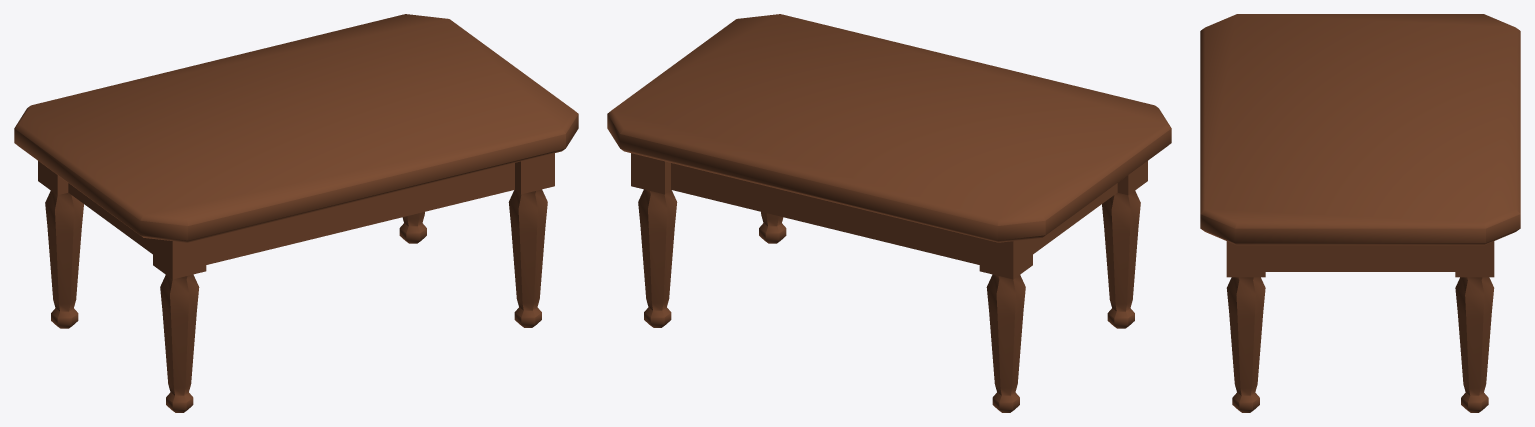
File: TurnedTableT05.glb
3 renders of one model, left to right at view 1: azimuth 30°, elevation 25°; view 2: azimuth 150°, elevation 25°; view 3: azimuth 270°, elevation 25°, orthographic.
Parts seen in each view (by area): view 1: Body_Wood; view 2: Body_Wood; view 3: Body_Wood.
Part boxes in pixels (box(x1,y1,x2,y2)): Body_Wood: box(14, 14, 578, 412); Body_Wood: box(607, 14, 1171, 412); Body_Wood: box(1200, 14, 1520, 412).
Size of the model in its own units: 4.4 by 2 by 2.8.
